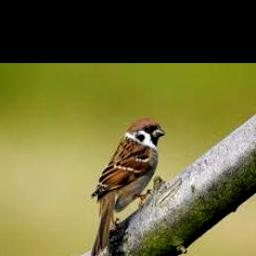Sparrow: (91, 119, 165, 256)
